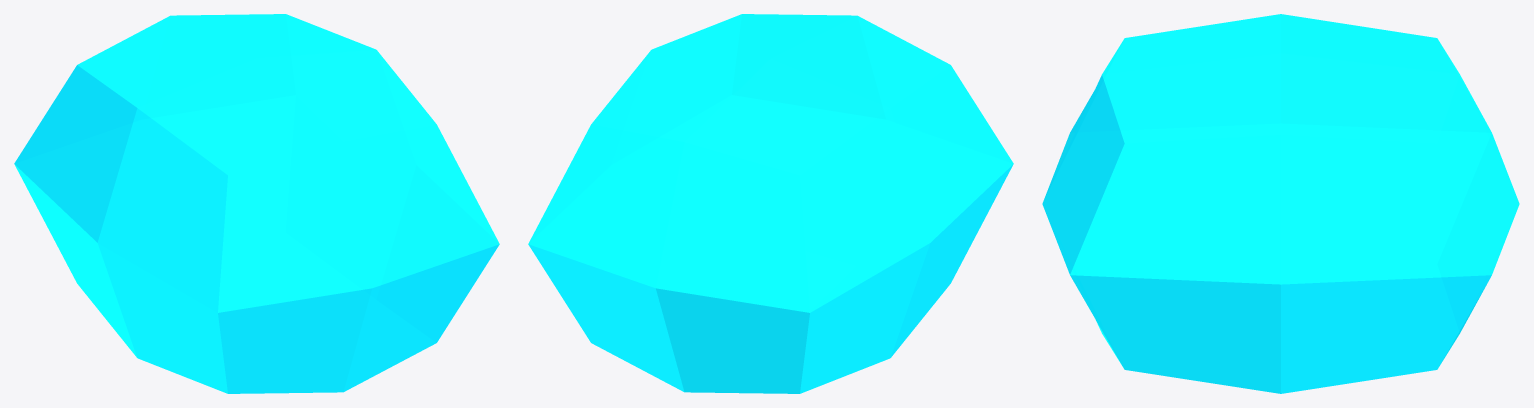
The model's file is Mdl_ResourceBlock.fbx.
The picture shows the model from 3 angles, left to right: view 1: azimuth 30°, elevation 25°; view 2: azimuth 150°, elevation 25°; view 3: azimuth 270°, elevation 25°; orthographic projection. The views are drawn at different scales.
Visible parts, largest first — view 1: recurso; view 2: recurso; view 3: recurso.
Part boxes in pixels (x1=…): recurso: x1=14, y1=14, x2=499, y2=393; recurso: x1=528, y1=14, x2=1013, y2=393; recurso: x1=1042, y1=14, x2=1519, y2=393.
Bounding box in the file's own units: 0.4472 × 0.3903 × 0.5598.
